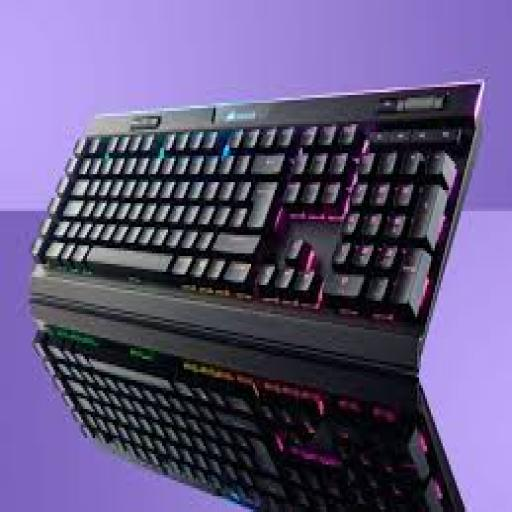KEYBOARD-2: (32, 84, 482, 372)
